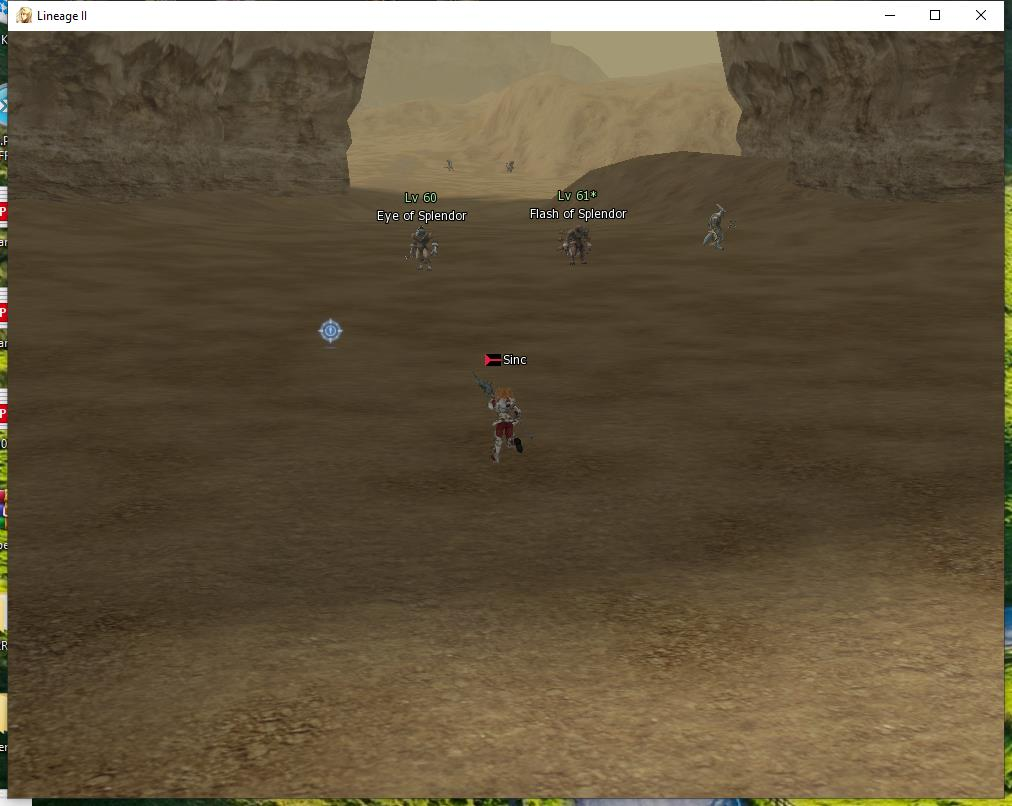monster: (378, 179, 476, 277), (528, 181, 622, 268), (698, 202, 738, 258)
